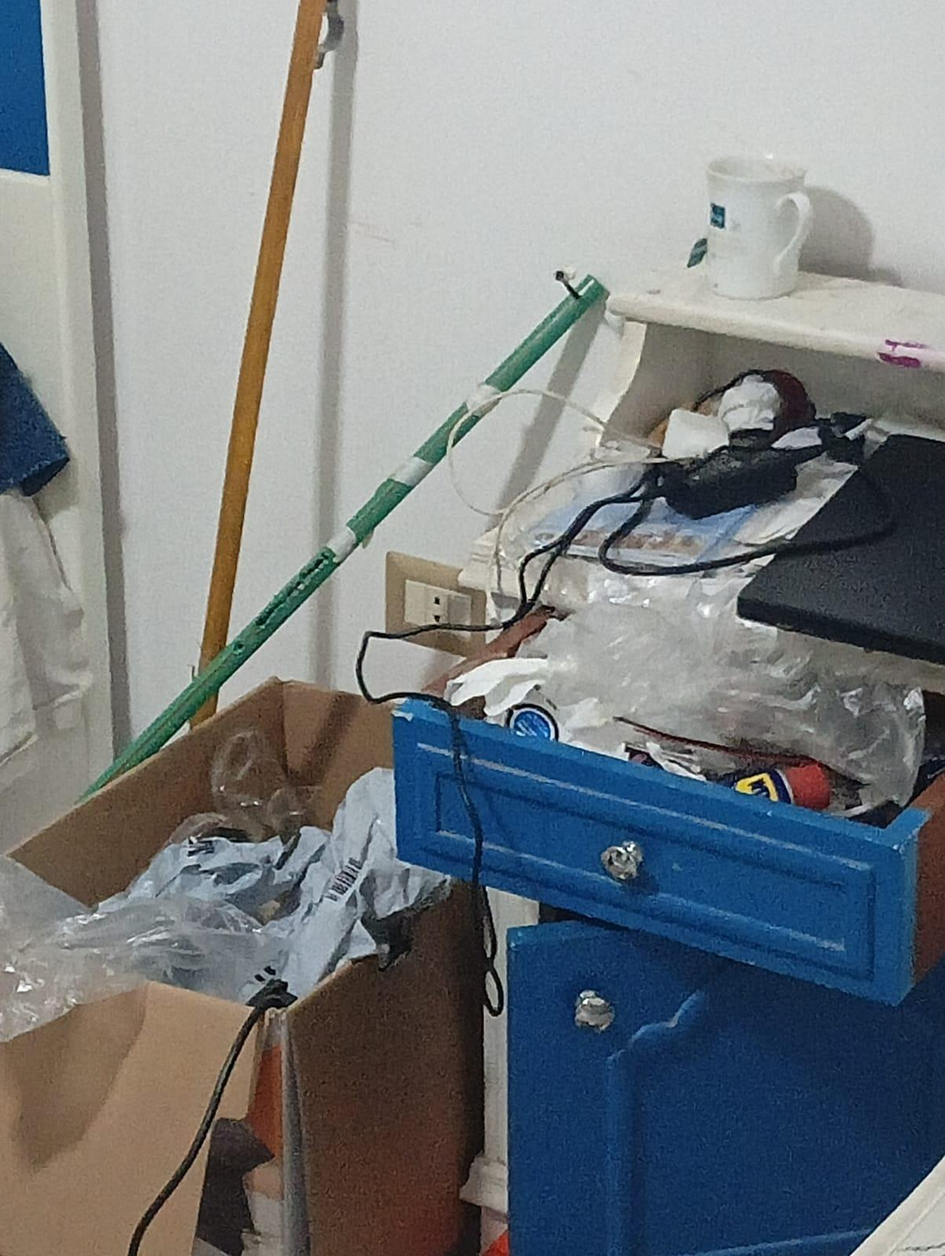cup: (707, 156, 812, 298)
